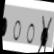correct: (1, 13, 10, 38)
not correct: (33, 10, 54, 53)
